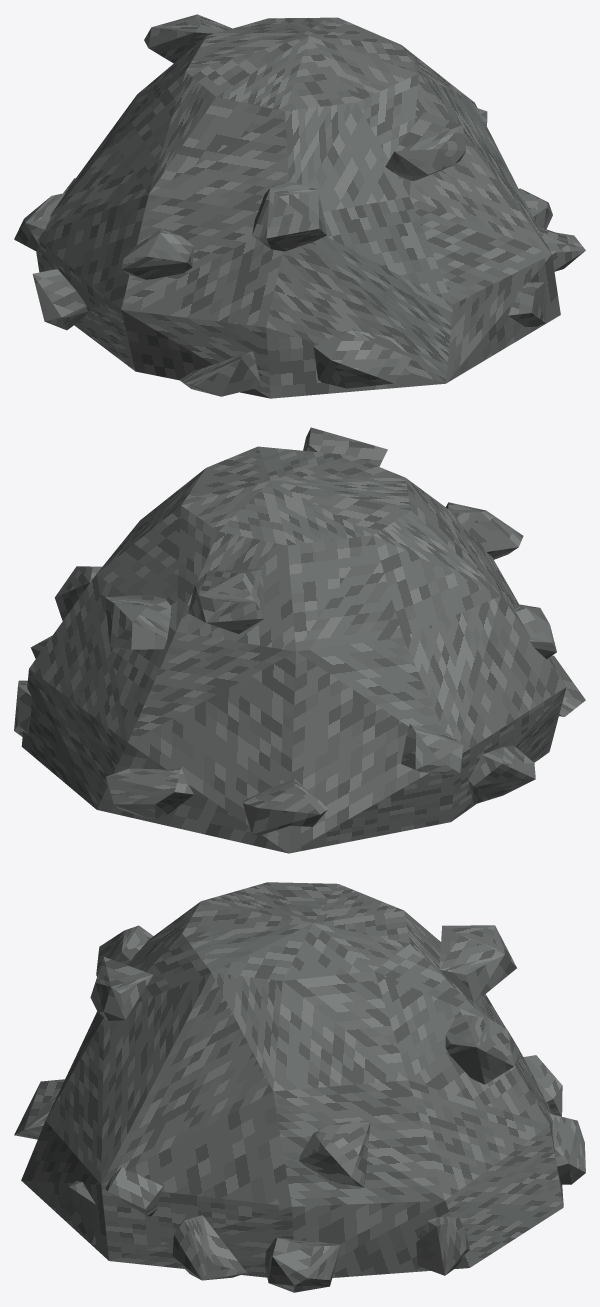
The model's file is f_rock_mound_short.glb.
3 views of the same model, one above another, from view 1: azimuth 30°, elevation 25°; view 2: azimuth 150°, elevation 25°; view 3: azimuth 270°, elevation 25° (orthographic). The views are drawn at different scales.
Visible parts, largest first — view 1: block_heaped-rock, block_loose-rock (×11); view 2: block_heaped-rock, block_loose-rock (×12); view 3: block_heaped-rock, block_loose-rock (×13).
Boxes of the visible parts, x1,y1,x2,y2 form: block_heaped-rock: (36, 17, 560, 398); block_loose-rock (×11): (14, 14, 585, 396); block_heaped-rock: (21, 446, 566, 853); block_loose-rock (×12): (14, 427, 585, 835); block_heaped-rock: (21, 882, 563, 1277); block_loose-rock (×13): (14, 925, 585, 1292).
Bounding box in the file's own units: 0.912 × 0.43 × 0.8621.
Materials: 1 (1 with a texture image).
